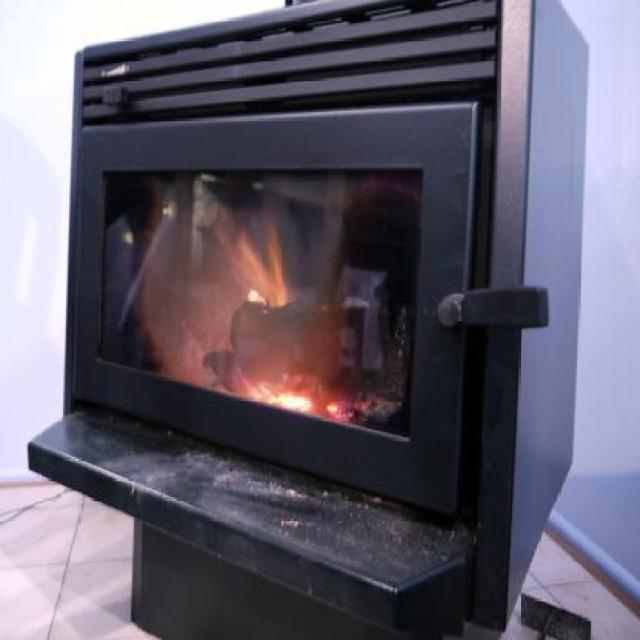Fire: (234, 360, 366, 422), (222, 225, 296, 310), (279, 388, 313, 410)
